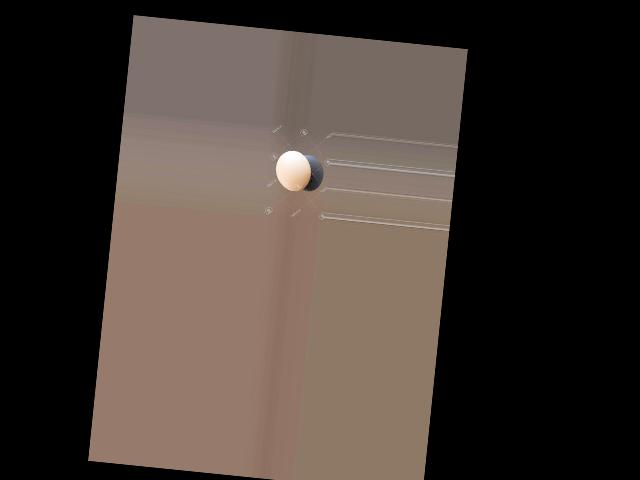egg: (274, 149, 313, 193)
